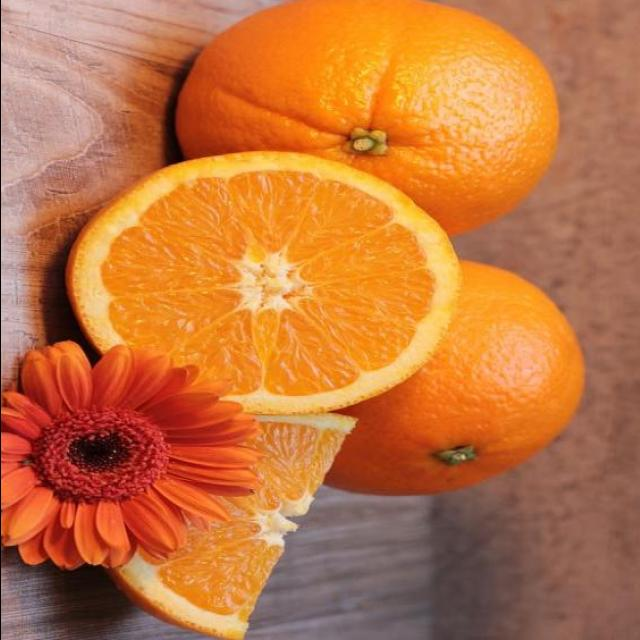orange: (143, 0, 573, 244), (212, 257, 586, 507)
